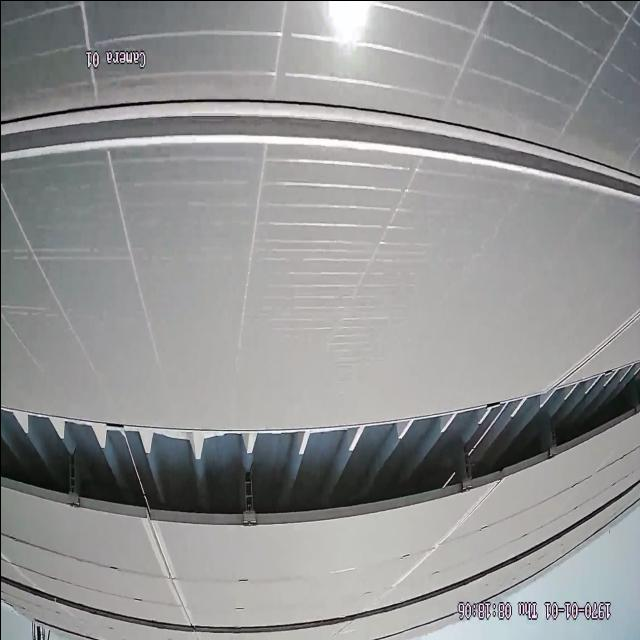interior panel: (3, 93, 639, 205), (401, 477, 502, 582), (553, 309, 638, 386), (142, 522, 191, 615)
outher panel: (0, 358, 639, 523)
